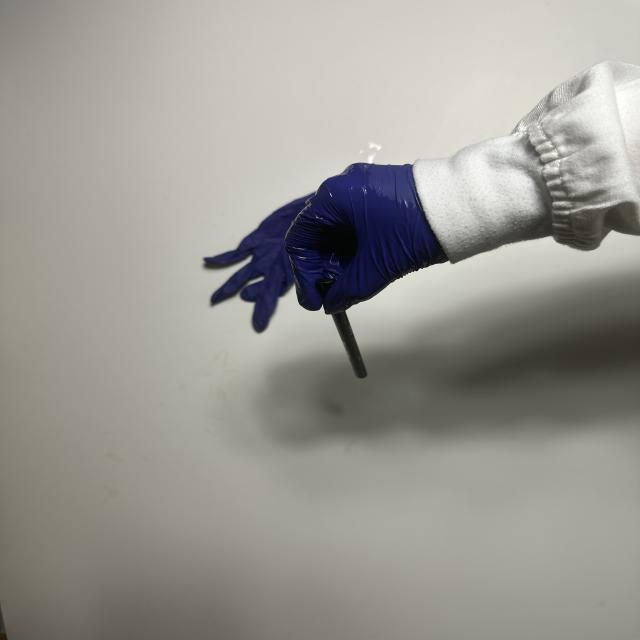gloves_contaminated: (285, 163, 448, 313)
